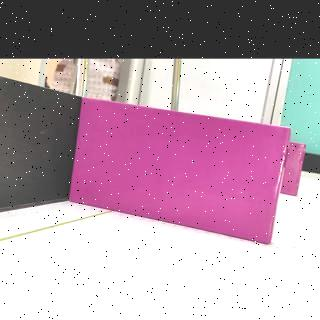xparking: (70, 99, 289, 242), (283, 144, 308, 196)
